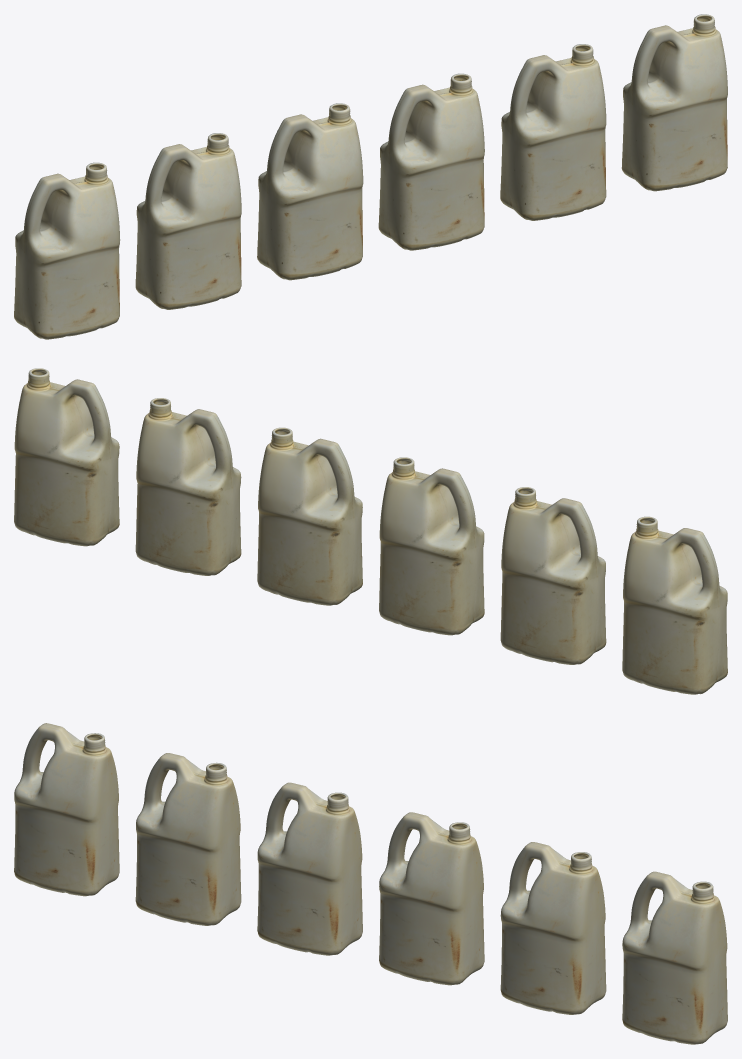
The model's file is stock_milk_row.glb.
3 views of the same model, one above another, from view 1: azimuth 30°, elevation 25°; view 2: azimuth 150°, elevation 25°; view 3: azimuth 330°, elevation 25° (orthographic).
Visible parts, largest first — view 1: plastic_bottle_gallon.003, plastic_bottle_gallon.002, plastic_bottle_gallon.004, plastic_bottle_gallon, plastic_bottle_gallon.001, plastic_bottle_gallon.005; view 2: plastic_bottle_gallon.002, plastic_bottle_gallon.005, plastic_bottle_gallon.003, plastic_bottle_gallon, plastic_bottle_gallon.001, plastic_bottle_gallon.004; view 3: plastic_bottle_gallon.005, plastic_bottle_gallon.002, plastic_bottle_gallon, plastic_bottle_gallon.003, plastic_bottle_gallon.004, plastic_bottle_gallon.001.
Part boxes in pixels (box(x1,y1,x2,y2)): plastic_bottle_gallon.003: box(378, 73, 484, 250); plastic_bottle_gallon.002: box(257, 103, 363, 280); plastic_bottle_gallon.004: box(500, 44, 606, 220); plastic_bottle_gallon: box(14, 162, 120, 339); plastic_bottle_gallon.001: box(135, 133, 241, 309); plastic_bottle_gallon.005: box(621, 14, 727, 191); plastic_bottle_gallon.002: box(379, 457, 484, 635); plastic_bottle_gallon.005: box(14, 368, 119, 546); plastic_bottle_gallon.003: box(257, 427, 362, 605); plastic_bottle_gallon: box(622, 516, 727, 694); plastic_bottle_gallon.001: box(500, 487, 606, 664); plastic_bottle_gallon.004: box(135, 398, 241, 575); plastic_bottle_gallon.005: box(622, 871, 727, 1044); plastic_bottle_gallon.002: box(257, 782, 362, 955); plastic_bottle_gallon: box(14, 723, 119, 896); plastic_bottle_gallon.003: box(379, 812, 484, 985); plastic_bottle_gallon.004: box(500, 842, 606, 1014); plastic_bottle_gallon.001: box(135, 753, 241, 925).
Bounding box in the file's own units: 1.26 × 0.26 × 0.1197.
Materials: 6 (6 with a texture image).
